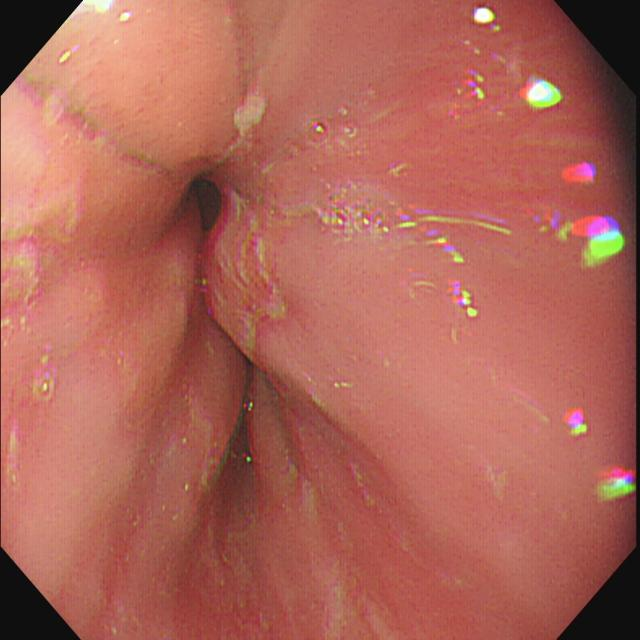D: (210, 218, 281, 324)
E: (183, 179, 226, 233)
J: (221, 93, 269, 150)
T: (317, 182, 392, 241), (307, 102, 361, 150), (32, 374, 58, 407)
U: (398, 206, 518, 241), (562, 208, 627, 271), (521, 73, 566, 115), (596, 464, 637, 501), (454, 66, 489, 108), (453, 276, 482, 325), (564, 160, 600, 188), (564, 405, 591, 438), (472, 4, 502, 26)
